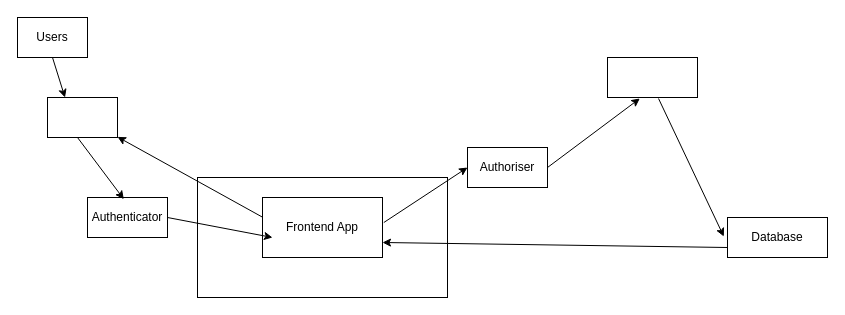
The diagram is 845 pixels wide and 315 high, and some of its shapes have lost their labels. The box of each missing label's shape, as (x1, y1, x2, y2) in pixels:
API: (606, 56, 698, 98)
Stored somewhere: (196, 176, 448, 298)
Web Address: (46, 96, 118, 138)
